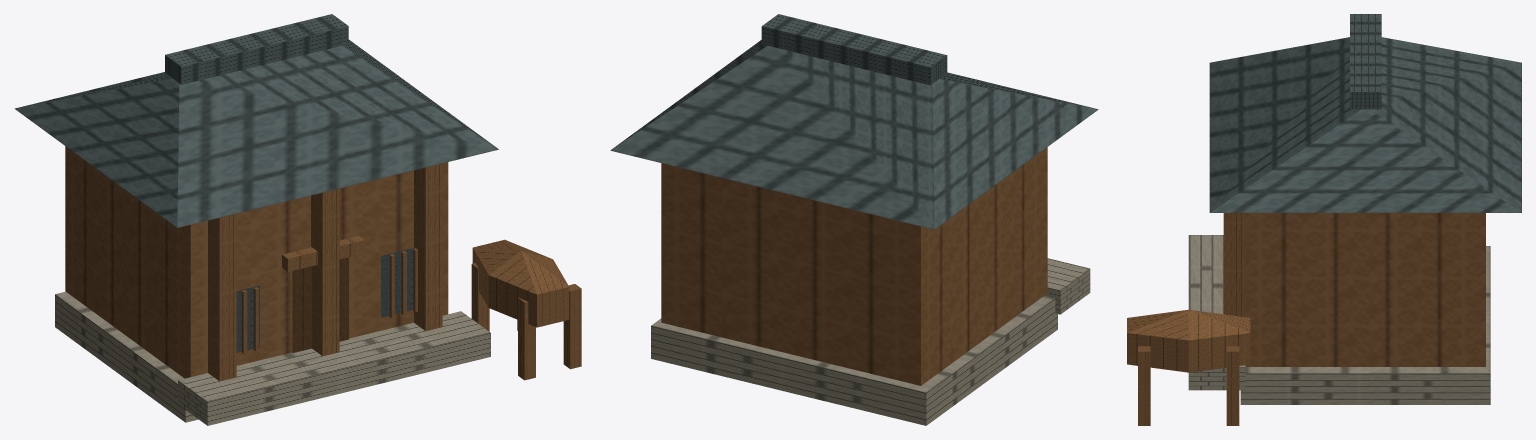
File: domestic-STABLE-1-lod0.glb
3 views of the same model, side by side, from view 1: azimuth 30°, elevation 25°; view 2: azimuth 150°, elevation 25°; view 3: azimuth 270°, elevation 25° (orthographic). The views are drawn at different scales.
Bounding box in the file's own units: 0.6413 × 0.503 × 0.6245.
1 material, 1 textured.
